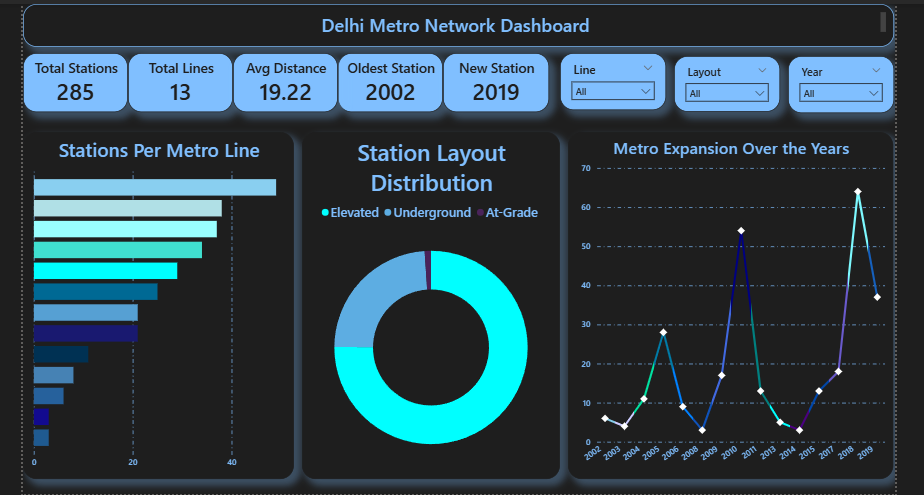

The dashboard page shown, as its layout file describes it:
{"tool":"powerbi","page":{"name":"Page 1","canvas":[1280,720],"ordinal":0},"visuals":[{"type":"textbox","box":[0,0,1279.8,63.2],"z":0},{"type":"card","title":"Total Stations","fields":{"Values":["CountNonNull(Delhi_Metro.ID)"]},"box":[0,72,154.3,86.7],"z":1000},{"type":"card","title":"Total Lines","fields":{"Values":["Count(Delhi_Metro.Line)"]},"box":[154.3,72,154.3,86.7],"z":2000},{"type":"card","title":"Oldest Station","fields":{"Values":["Delhi_Metro.Oldest Line"]},"box":[462.9,72,154.3,86.7],"z":3000},{"type":"card","title":"Avg Distance","fields":{"Values":["Avg(Delhi_Metro.Distance)"]},"box":[308.6,72,154.3,86.7],"z":4000},{"type":"card","title":"New Station","fields":{"Values":["Delhi_Metro.Newest Line"]},"box":[617.1,72,155.8,86.7],"z":5000},{"type":"clusteredBarChart","title":"Stations Per Metro Line","fields":{"Category":["Delhi_Metro.Line"],"Y":["CountNonNull(Delhi_Metro.Name)"]},"box":[0,188.1,398.2,509.9],"z":6000},{"type":"donutChart","title":"Station Layout Distribution","fields":{"Category":["Delhi_Metro.Layout"],"Y":["CountNonNull(Delhi_Metro.ID)"]},"box":[410,188.1,379.1,509.9],"z":7000},{"type":"slicer","title":"Line","fields":{"Values":["Delhi_Metro.Line"]},"box":[789.1,72,155.8,83.8],"z":8000},{"type":"slicer","fields":{"Values":["Delhi_Metro.Layout"]},"box":[956.6,76.4,155.8,82.3],"z":9000},{"type":"slicer","fields":{"Values":["Delhi_Metro.Date.Variation.Date Hierarchy.Year"]},"box":[1124.1,76.4,155.8,83.8],"z":10000},{"type":"lineChart","title":"Metro Expansion Over the Years","fields":{"Category":["Delhi_Metro.Date.Variation.Date Hierarchy.Year"],"Y":["CountNonNull(Delhi_Metro.ID)"]},"box":[801.5,188.2,477.9,510.3],"z":11000}]}

Visuals, with their boxes in screenshot pixels (x1, y1, x2, y2):
textbox: {"left": 22, "top": 2, "right": 891, "bottom": 45}
"Total Stations" card: {"left": 22, "top": 51, "right": 126, "bottom": 110}
"Total Lines" card: {"left": 126, "top": 51, "right": 231, "bottom": 110}
"Oldest Station" card: {"left": 336, "top": 51, "right": 441, "bottom": 110}
"Avg Distance" card: {"left": 231, "top": 51, "right": 336, "bottom": 110}
"New Station" card: {"left": 441, "top": 51, "right": 546, "bottom": 110}
"Stations Per Metro Line" clusteredBarChart: {"left": 22, "top": 130, "right": 292, "bottom": 476}
"Station Layout Distribution" donutChart: {"left": 300, "top": 130, "right": 557, "bottom": 476}
"Line" slicer: {"left": 557, "top": 51, "right": 663, "bottom": 108}
slicer - Delhi_Metro.Layout: {"left": 671, "top": 54, "right": 777, "bottom": 110}
slicer - Delhi_Metro.Date.Variation.Date Hierarchy.Year: {"left": 785, "top": 54, "right": 891, "bottom": 111}
"Metro Expansion Over the Years" lineChart: {"left": 566, "top": 130, "right": 890, "bottom": 477}
